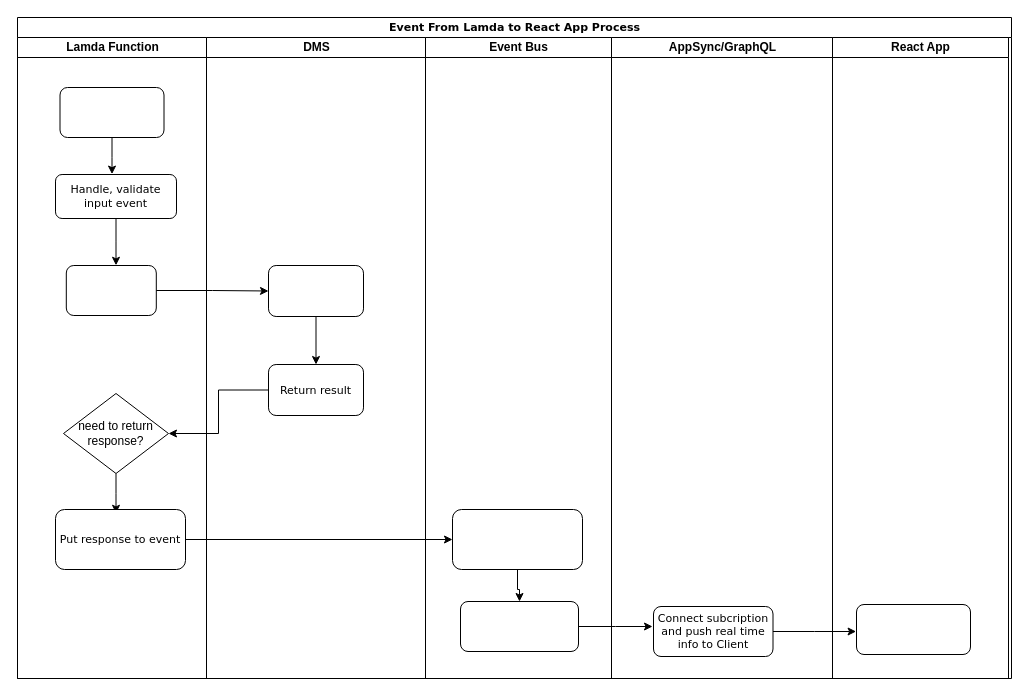
Image size: 1029x696. Some labels were removed from this diagram. The shapes that lost their labels are listed below. From the top down, each one's centre as x and y in pixels, then its label:
point (111, 112): Receive input event
point (110, 290): Call Soap API
point (316, 290): Handle SOAP request
point (517, 539): filter event by detail type and source
point (519, 626): Send request to AppSync
point (913, 629): Receive submition info real time
